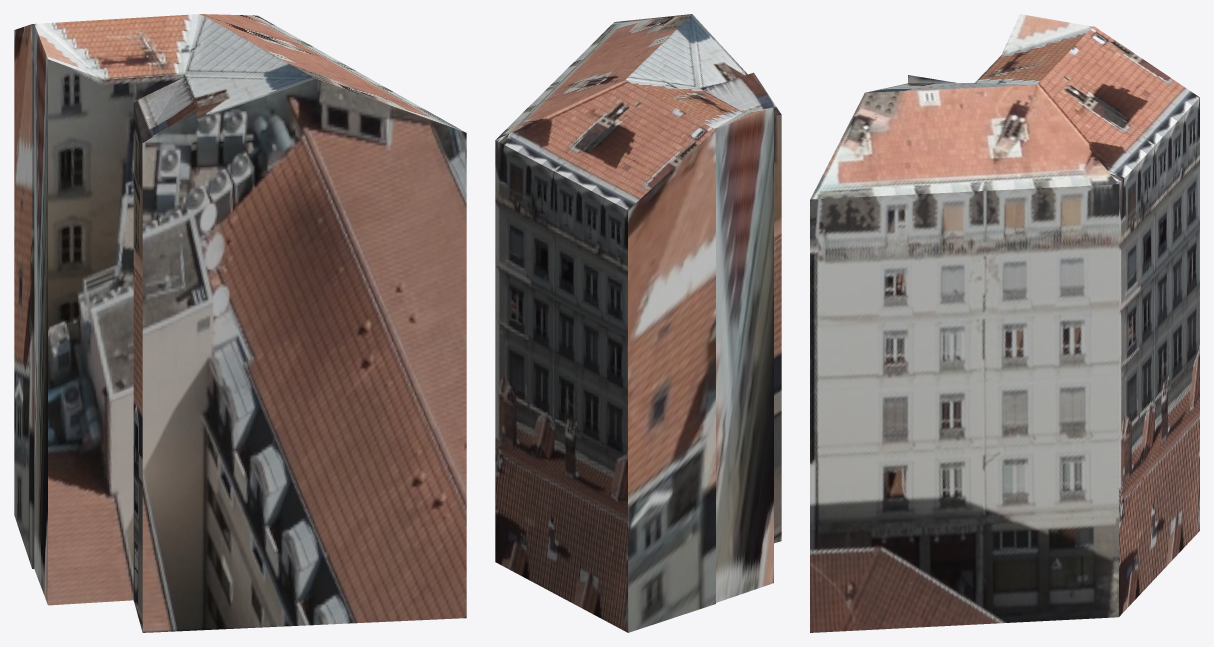
The picture shows the model from 3 angles, left to right: view 1: azimuth 30°, elevation 25°; view 2: azimuth 150°, elevation 25°; view 3: azimuth 270°, elevation 25°; orthographic projection. The views are drawn at different scales.
Visible parts, largest first — view 1: Z_UP; view 2: Z_UP; view 3: Z_UP.
Part boxes in pixels (x1,y1,x2,y2): Z_UP: (14,14,466,632); Z_UP: (495,14,781,632); Z_UP: (810,14,1199,632).
Size of the model in its own units: 15.01 by 26.04 by 18.85.
2 materials, 1 textured.
